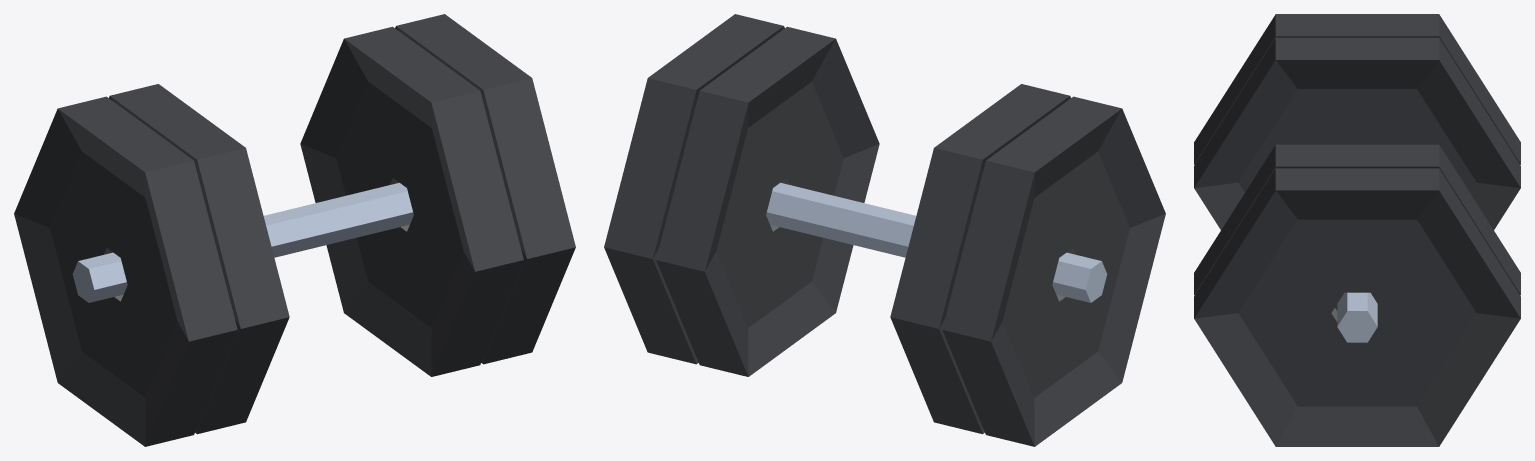
File: Dumbbell 2.fbx
3 renders of one model, left to right at view 1: azimuth 30°, elevation 25°; view 2: azimuth 150°, elevation 25°; view 3: azimuth 270°, elevation 25°, orthographic. The views are drawn at different scales.
Visible parts, largest first — view 1: dumbell 2; view 2: dumbell 2; view 3: dumbell 2.
Part boxes in pixels (box(x1,y1,x2,y2)): dumbell 2: box(14, 14, 575, 446); dumbell 2: box(604, 14, 1165, 446); dumbell 2: box(1194, 14, 1520, 446).
Bounding box in the file's own units: 44.26 × 27.45 × 31.7.
